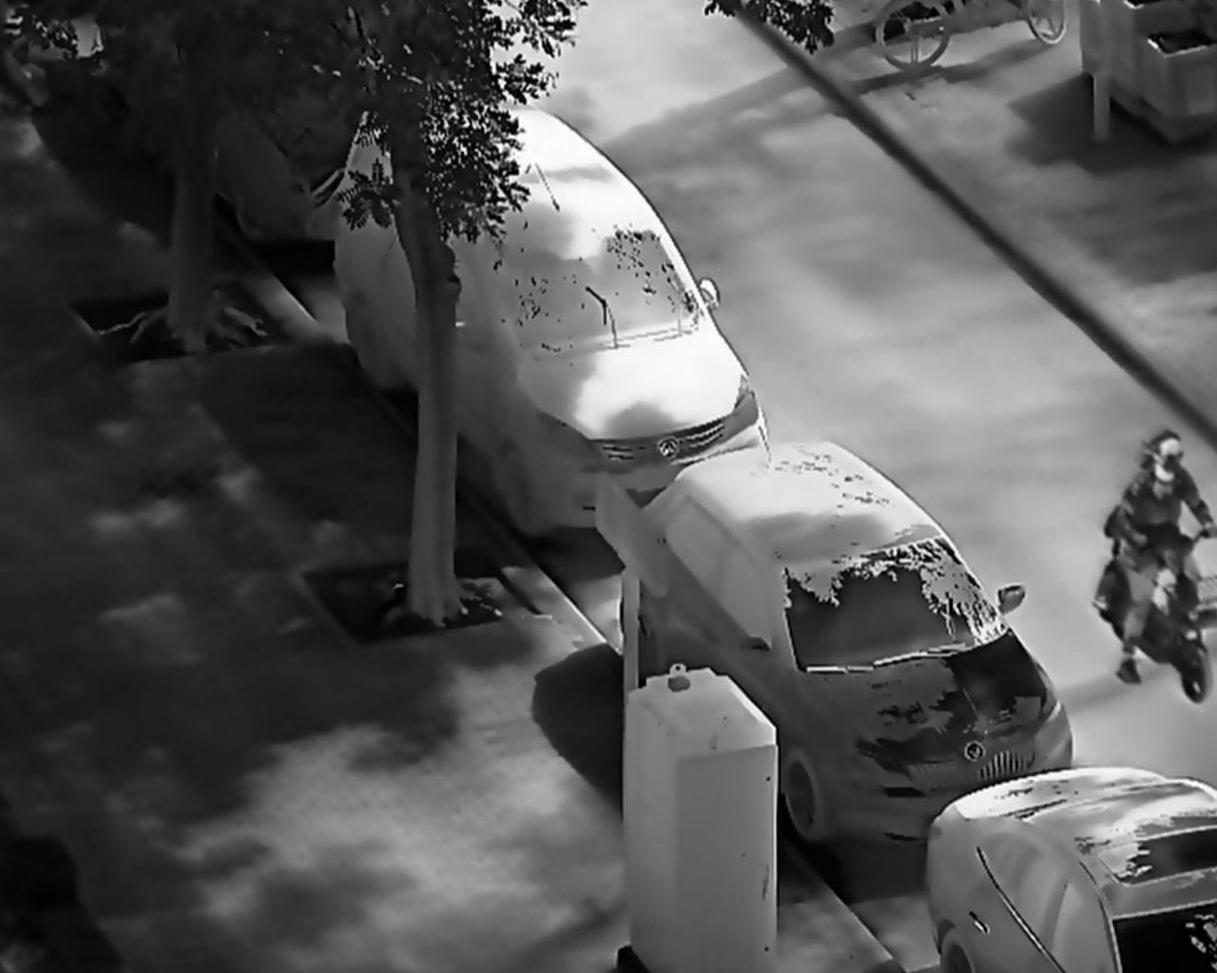person: (1108, 428, 1217, 689)
